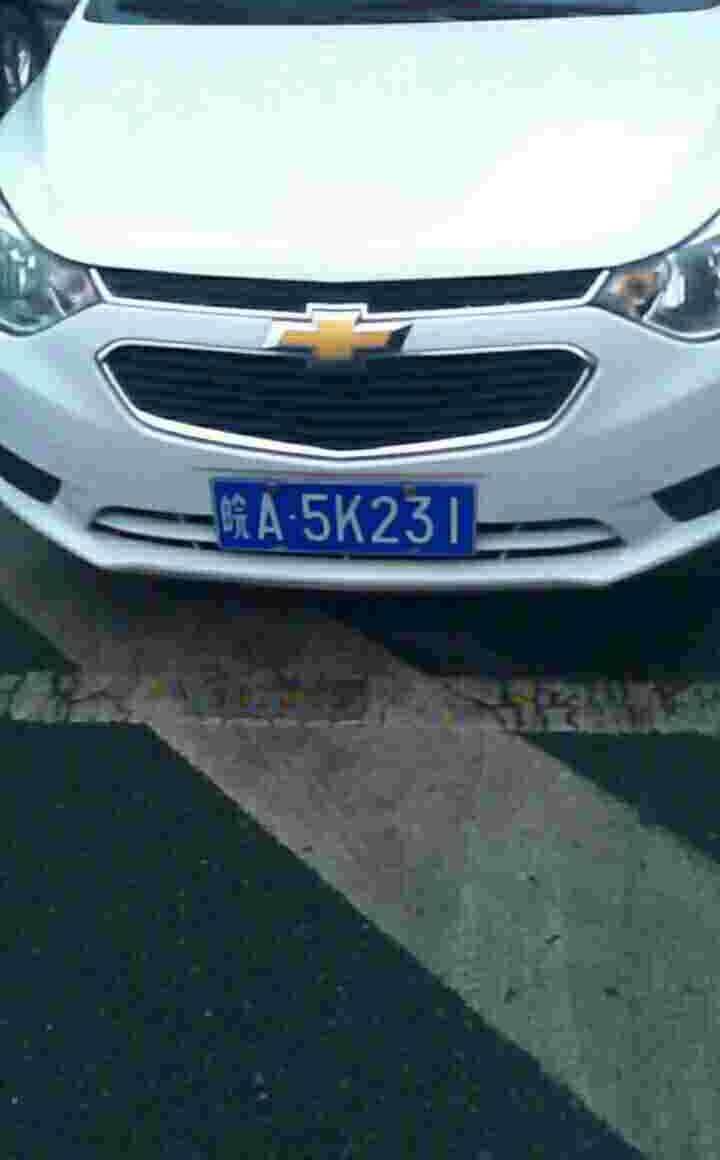car: (210, 477, 475, 568)
